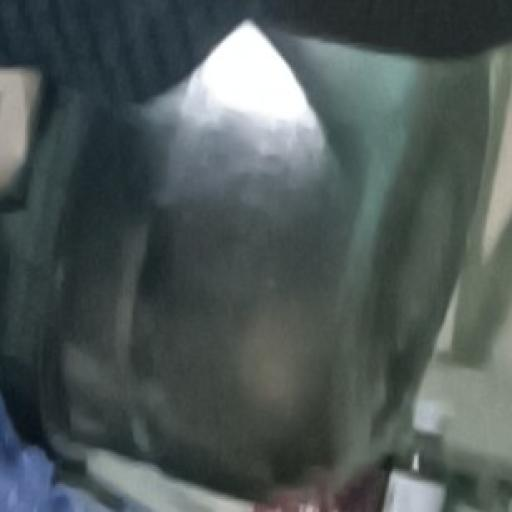vessel: (0, 20, 495, 501)
